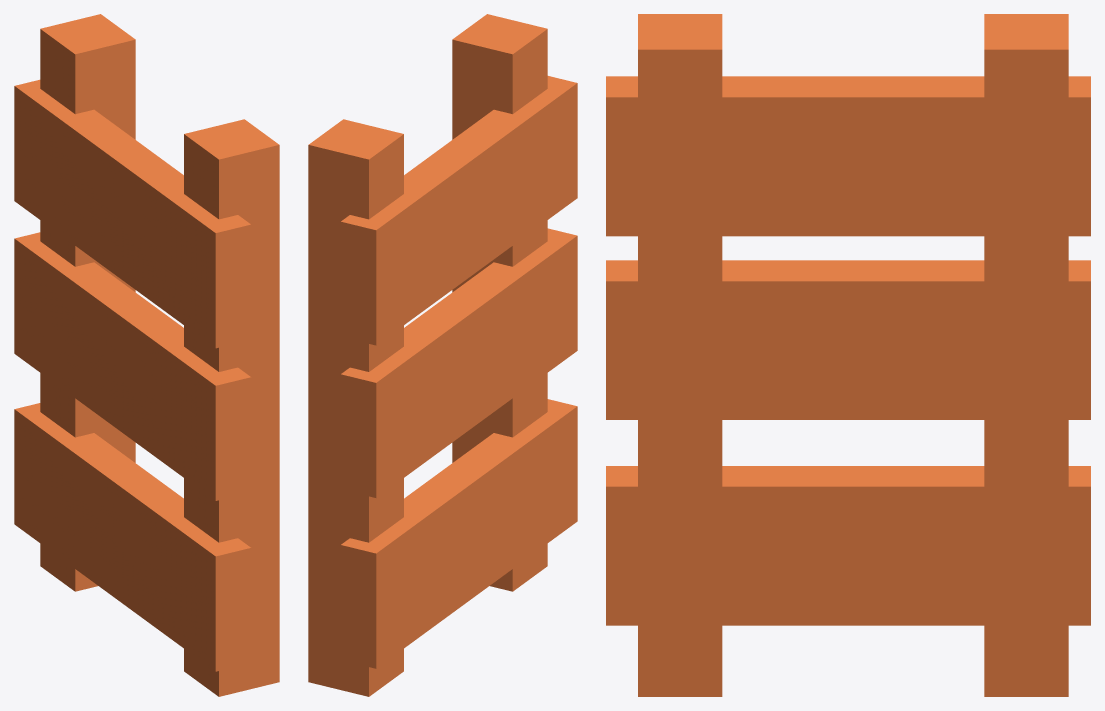
Rendered from Ladder001.fbx.
The picture shows the model from 3 angles, left to right: view 1: azimuth 30°, elevation 25°; view 2: azimuth 150°, elevation 25°; view 3: azimuth 270°, elevation 25°; orthographic projection. The views are drawn at different scales.
Parts seen in each view (by area): view 1: Ladder001; view 2: Ladder001; view 3: Ladder001.
Boxes of the visible parts, x1,y1,x2,y2 form: Ladder001: (14, 14, 279, 696); Ladder001: (308, 14, 577, 696); Ladder001: (606, 14, 1090, 696).
Size of the model in its own units: 30.01 by 200 by 136.
